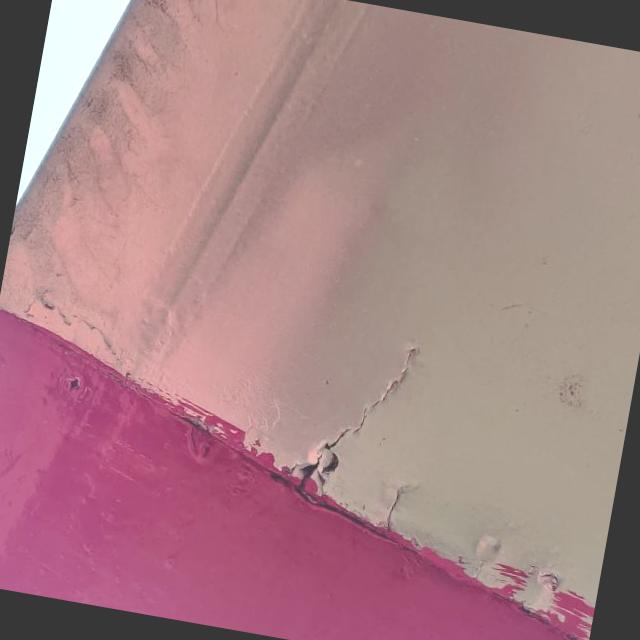dent: (178, 418, 228, 464)
